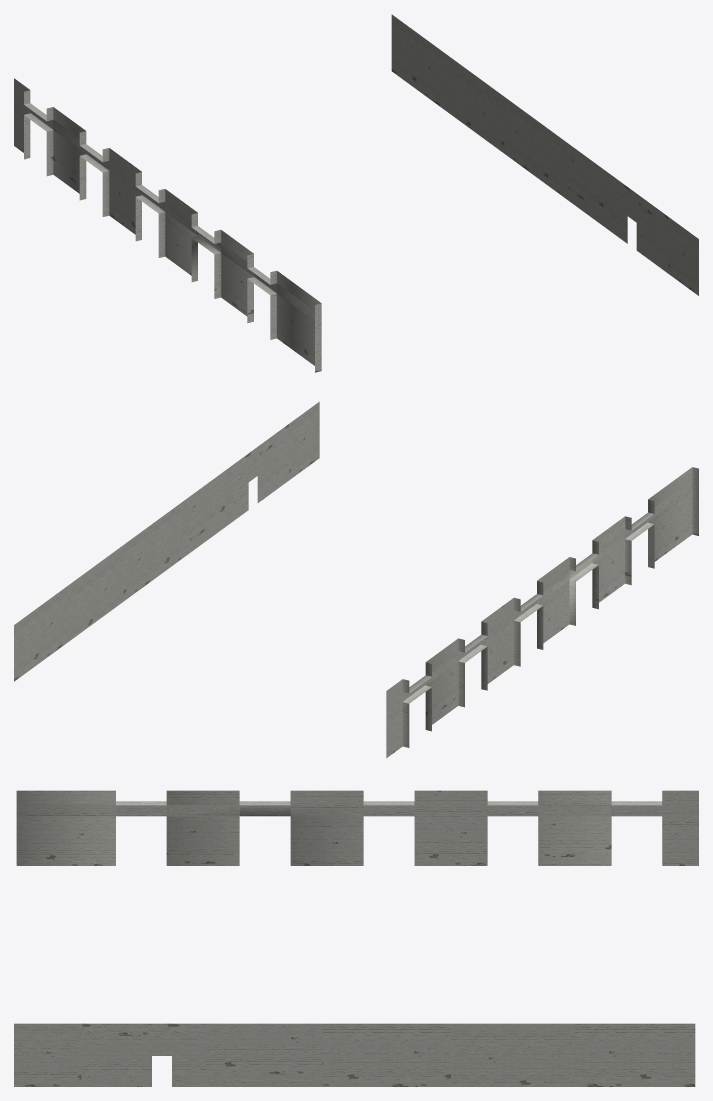
Rendered from Scene_Garage03_Wall01.fbx.
3 renders of one model, top to bottom at view 1: azimuth 30°, elevation 25°; view 2: azimuth 150°, elevation 25°; view 3: azimuth 270°, elevation 25°, orthographic. The views are drawn at different scales.
Visible parts, largest first — view 1: Scene_Garage03_Wall06, Scene_Garage03_Wall05; view 2: Scene_Garage03_Wall05, Scene_Garage03_Wall06; view 3: Scene_Garage03_Wall06, Scene_Garage03_Wall05.
Boxes of the visible parts, left/top/right/bottom form: Scene_Garage03_Wall06: left=391, top=14, right=698, bottom=295; Scene_Garage03_Wall05: left=14, top=78, right=321, bottom=372; Scene_Garage03_Wall05: left=386, top=467, right=698, bottom=757; Scene_Garage03_Wall06: left=14, top=401, right=319, bottom=681; Scene_Garage03_Wall06: left=14, top=1023, right=695, bottom=1086; Scene_Garage03_Wall05: left=16, top=790, right=698, bottom=865.
Bounding box in the file's own units: 4015 × 839 × 5614.
